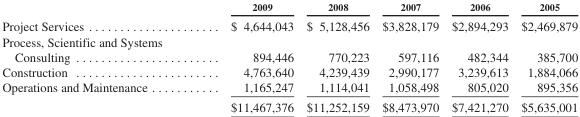table: (1, 0, 577, 113)
table column: (1, 0, 195, 113), (195, 0, 299, 113), (299, 0, 375, 113), (444, 0, 514, 113), (375, 0, 444, 113), (514, 0, 577, 113)
table column header: (1, 0, 577, 15)
table row: (1, 33, 577, 64), (1, 15, 577, 33), (1, 79, 577, 96), (1, 96, 577, 113), (1, 0, 577, 15), (1, 64, 577, 79)
